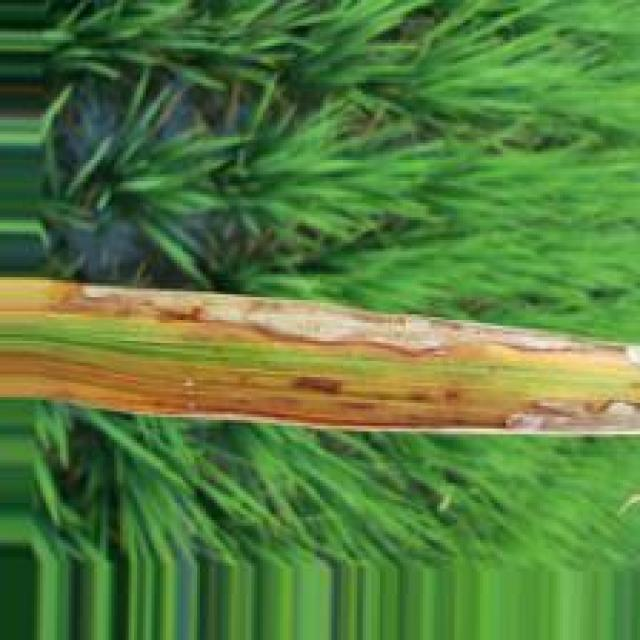Bacterial_Leaf_Blight: (0, 272, 640, 437)
